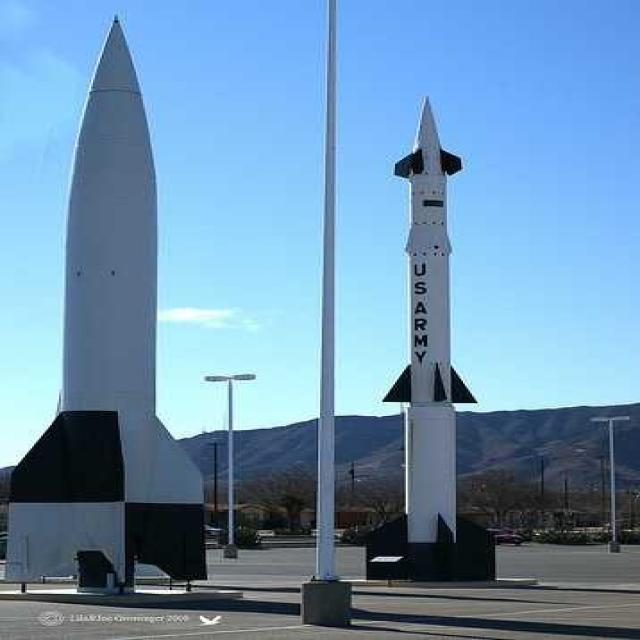missile: (25, 16, 201, 584), (381, 92, 505, 570)
